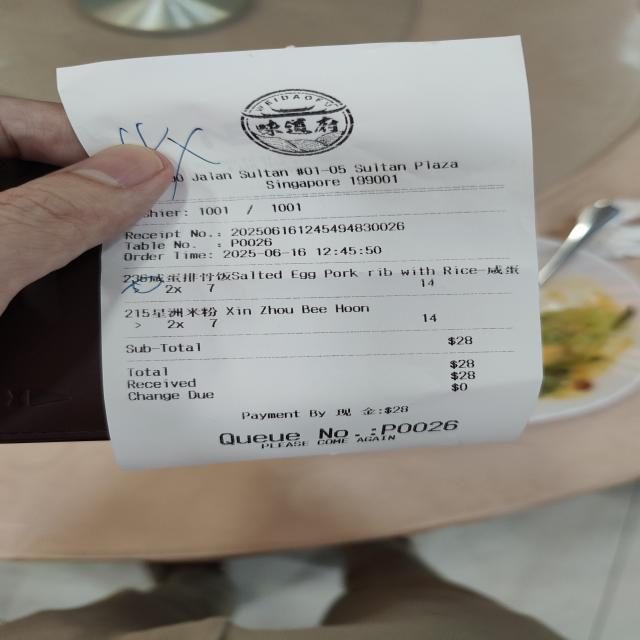bill_region: (99, 261, 539, 405)
